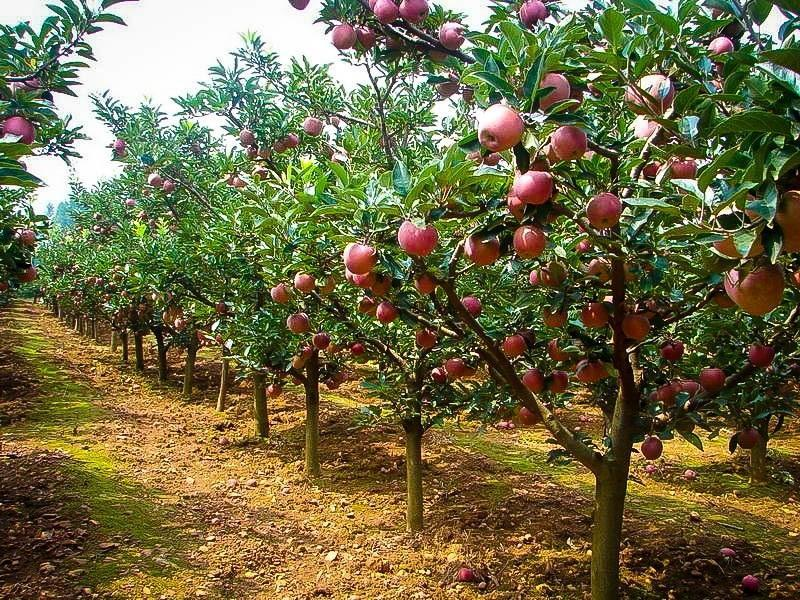apple: (721, 258, 783, 314), (474, 103, 523, 153), (632, 72, 672, 112), (547, 124, 586, 161), (399, 218, 436, 255), (587, 189, 621, 229), (512, 171, 554, 203), (463, 233, 503, 265), (536, 73, 571, 109), (656, 156, 695, 185), (514, 223, 545, 258), (440, 22, 468, 51), (520, 3, 551, 29), (397, 1, 429, 22), (708, 35, 733, 55)
